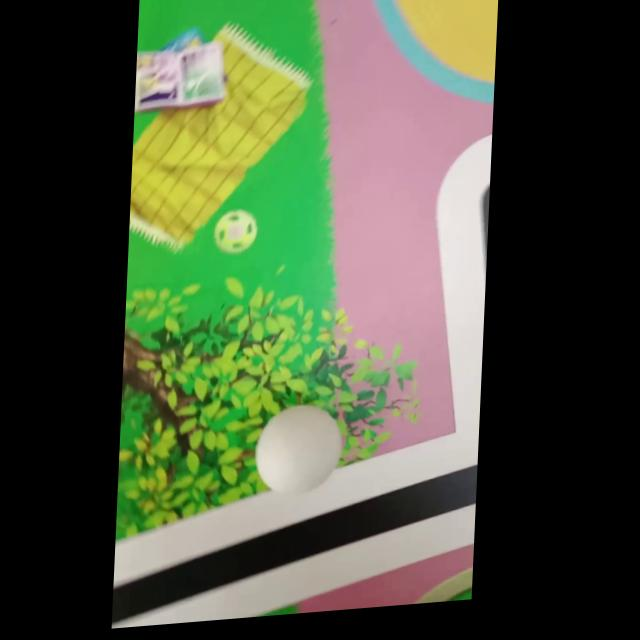white ball: (252, 400, 344, 498)
